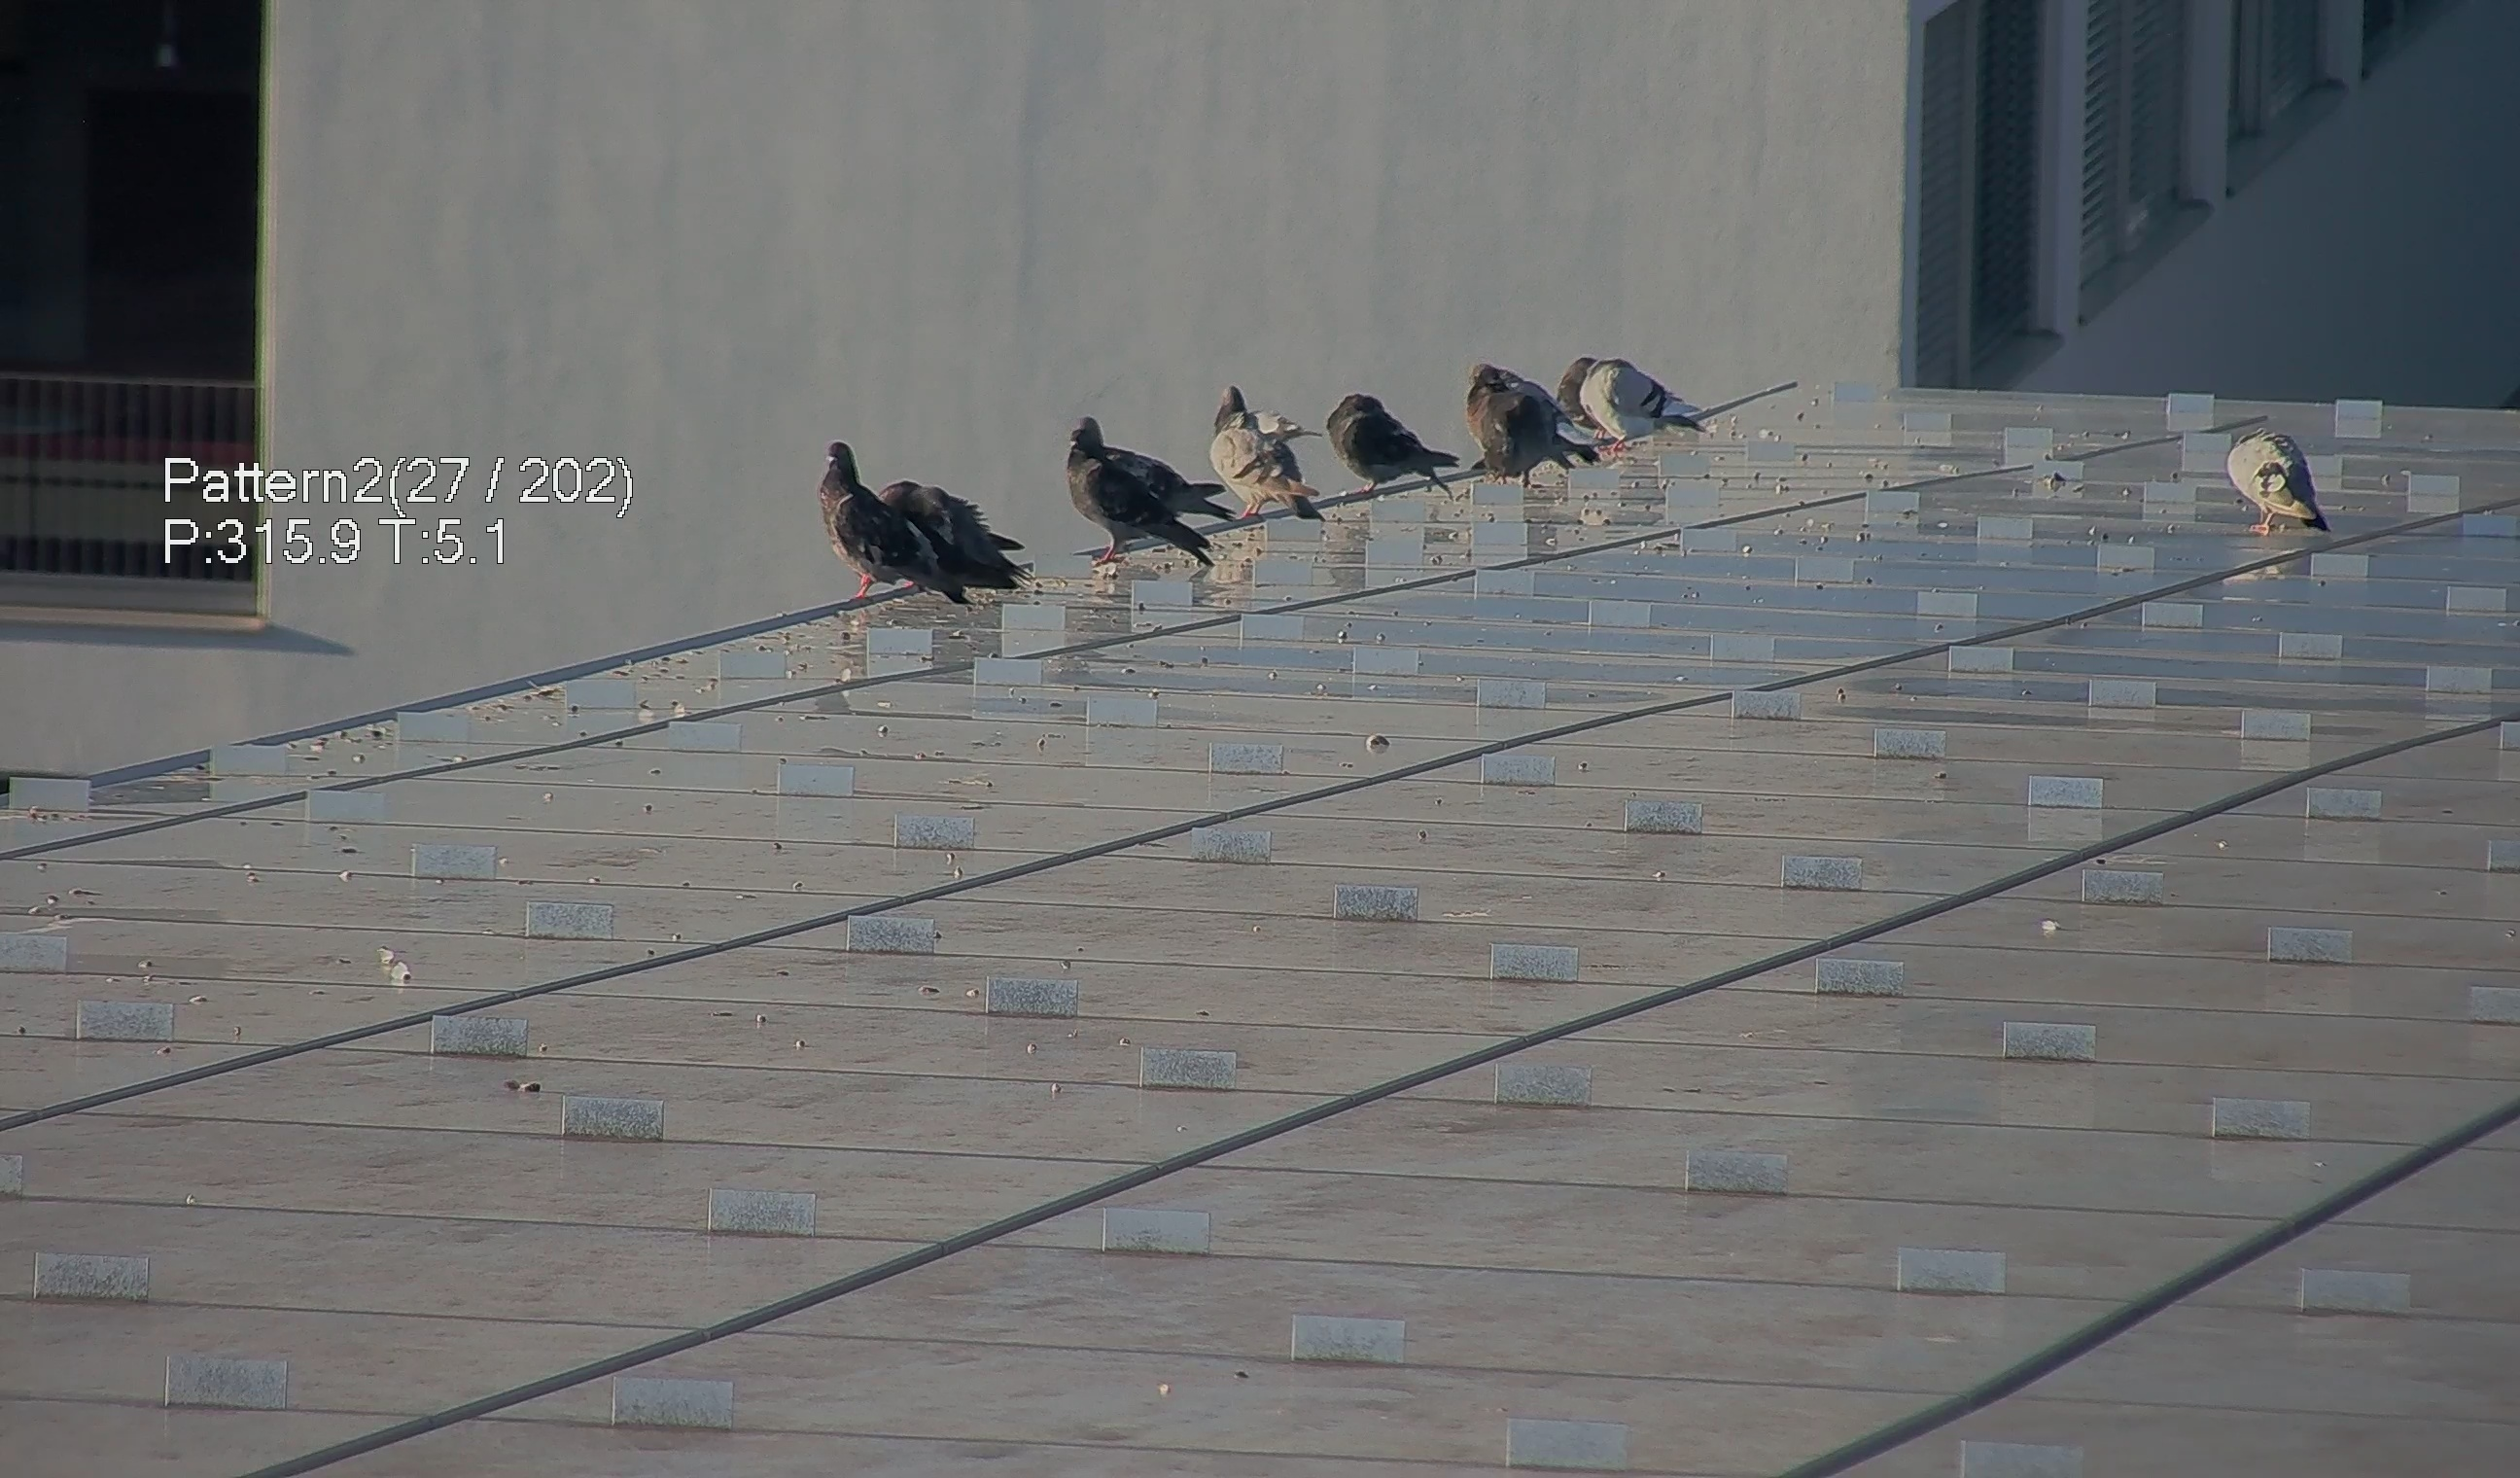Pigeon: (797, 435, 1018, 616), (1043, 405, 1222, 567), (1199, 373, 1344, 528), (1549, 338, 1750, 449), (1458, 352, 1611, 479), (1322, 371, 1467, 491), (1467, 362, 1602, 487), (2233, 413, 2348, 547)
